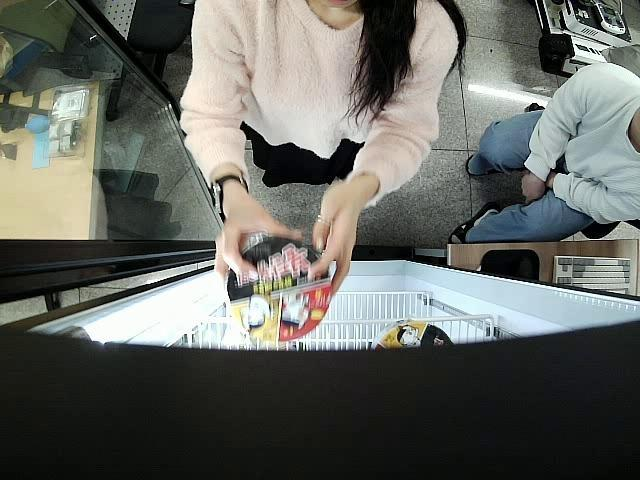07_buldak_L: (226, 234, 335, 340)
